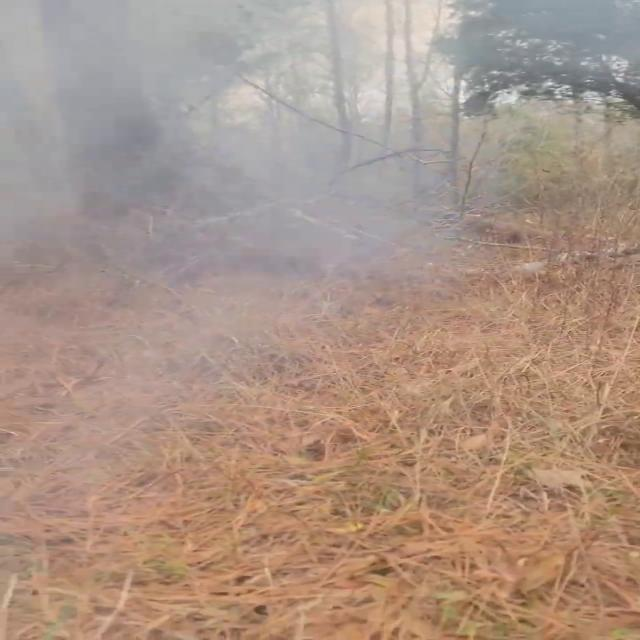Smoke: (1, 1, 540, 318)
